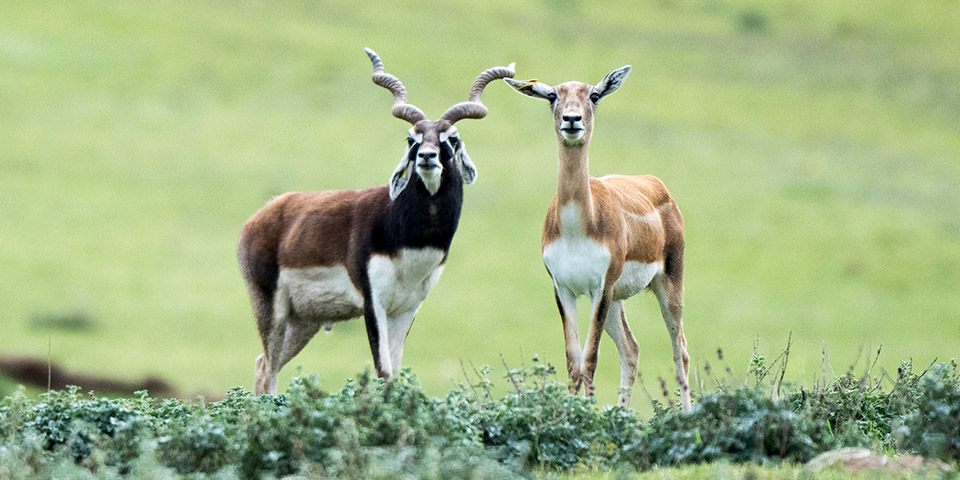Blackbuck: (235, 52, 514, 413)
Deer: (504, 66, 702, 431)
